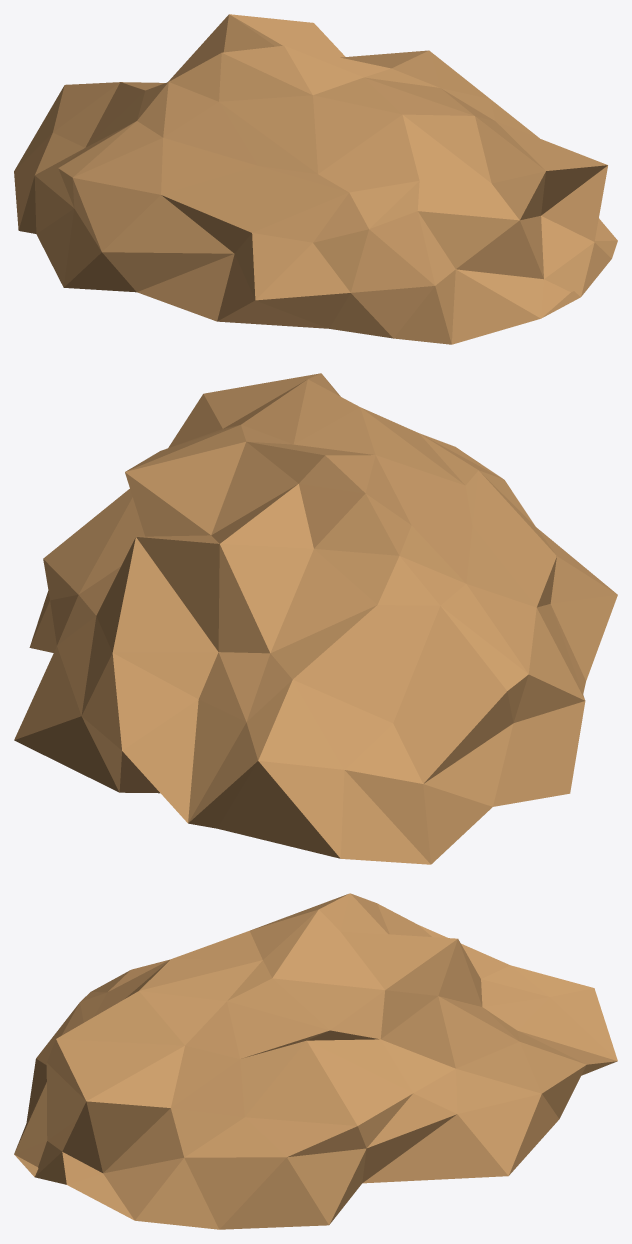
File: Batu.fbx
The picture shows the model from 3 angles, top to bottom: view 1: azimuth 30°, elevation 25°; view 2: azimuth 150°, elevation 25°; view 3: azimuth 270°, elevation 25°; orthographic projection. The views are drawn at different scales.
Parts seen in each view (by area): view 1: Icosphere.007; view 2: Icosphere.007; view 3: Icosphere.007.
Boxes of the visible parts, x1,y1,x2,y2 form: Icosphere.007: (14,14,617,344); Icosphere.007: (14,373,617,864); Icosphere.007: (14,893,617,1229).
Size of the model in its own units: 484 by 216 by 556.
